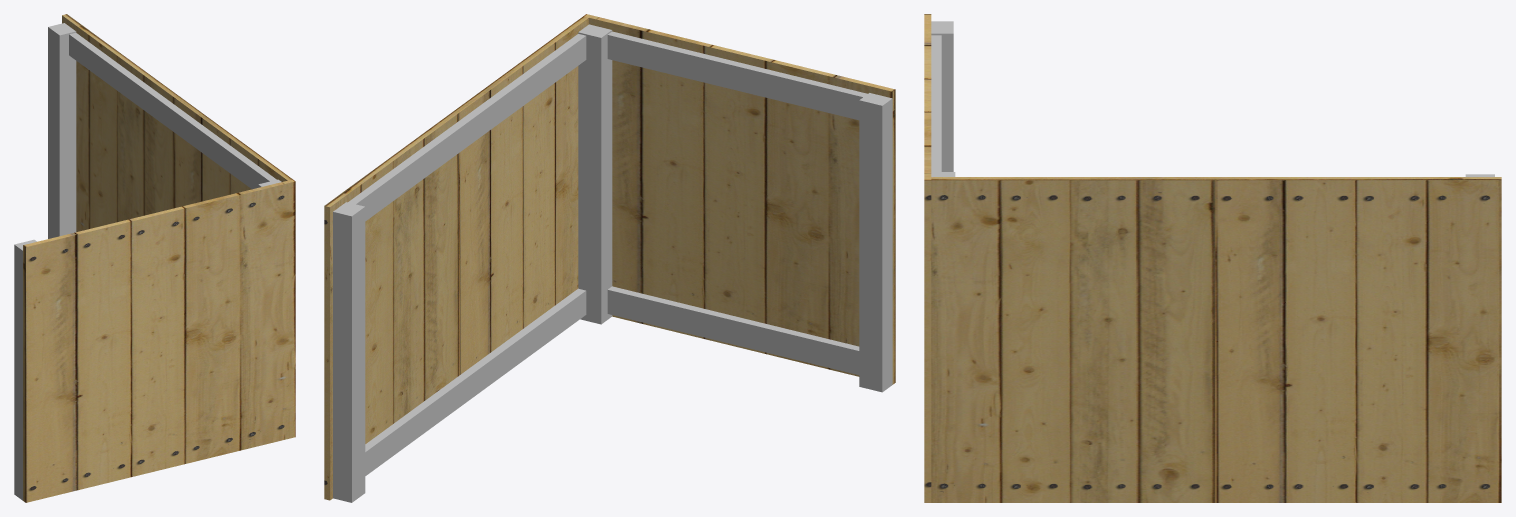
The model's file is Woodbuild3.FBX.
3 views of the same model, side by side, from view 1: azimuth 30°, elevation 25°; view 2: azimuth 150°, elevation 25°; view 3: azimuth 270°, elevation 25° (orthographic). The views are drawn at different scales.
Visible parts, largest first — view 1: woodbuild3, woodbuild3a; view 2: woodbuild3, woodbuild3a; view 3: woodbuild3, woodbuild3a.
Boxes of the visible parts, box(x1,y1,x2,y2) form: woodbuild3: box(23, 14, 295, 502); woodbuild3a: box(14, 23, 281, 500); woodbuild3: box(324, 14, 895, 500); woodbuild3a: box(333, 24, 892, 502); woodbuild3: box(924, 14, 1501, 502); woodbuild3a: box(931, 21, 1494, 176).
Size of the model in its own units: 52.16 by 47.24 by 76.59.
